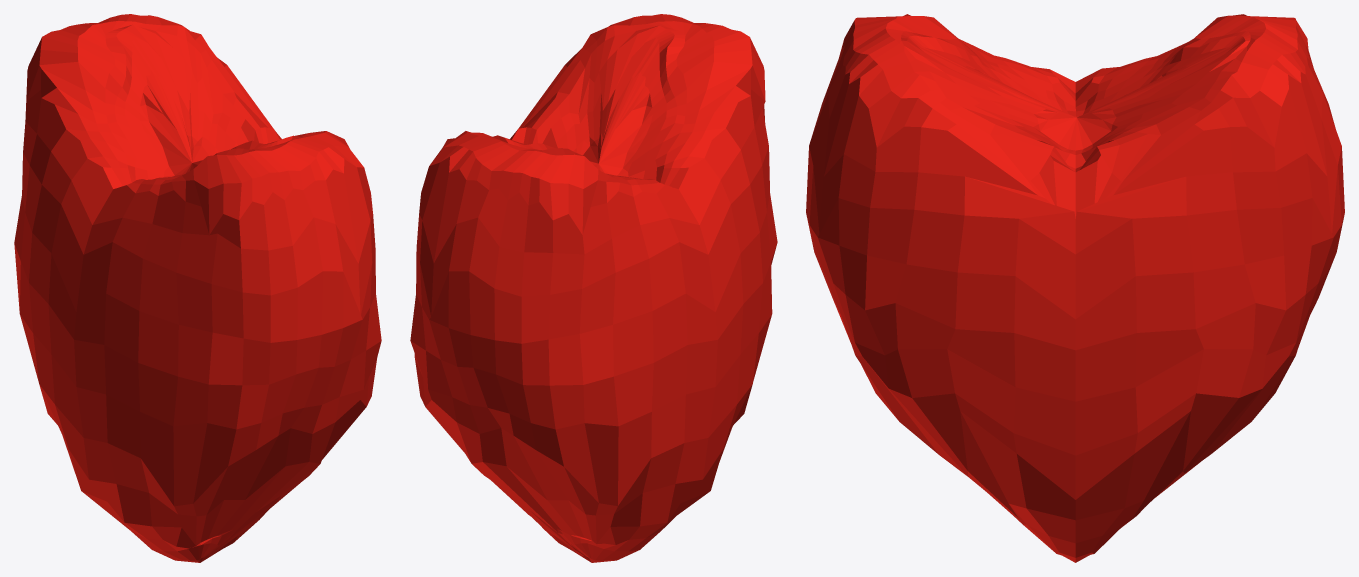
File: Hearth.fbx
3 renders of one model, left to right at view 1: azimuth 30°, elevation 25°; view 2: azimuth 150°, elevation 25°; view 3: azimuth 270°, elevation 25°, orthographic. The views are drawn at different scales.
Visible parts, largest first — view 1: Sphere; view 2: Sphere; view 3: Sphere.
Part boxes in pixels (<box>): Sphere: <box>14,14,381,562</box>; Sphere: <box>410,14,777,562</box>; Sphere: <box>806,14,1344,562</box>.
Size of the model in its own units: 101 by 186 by 172.
